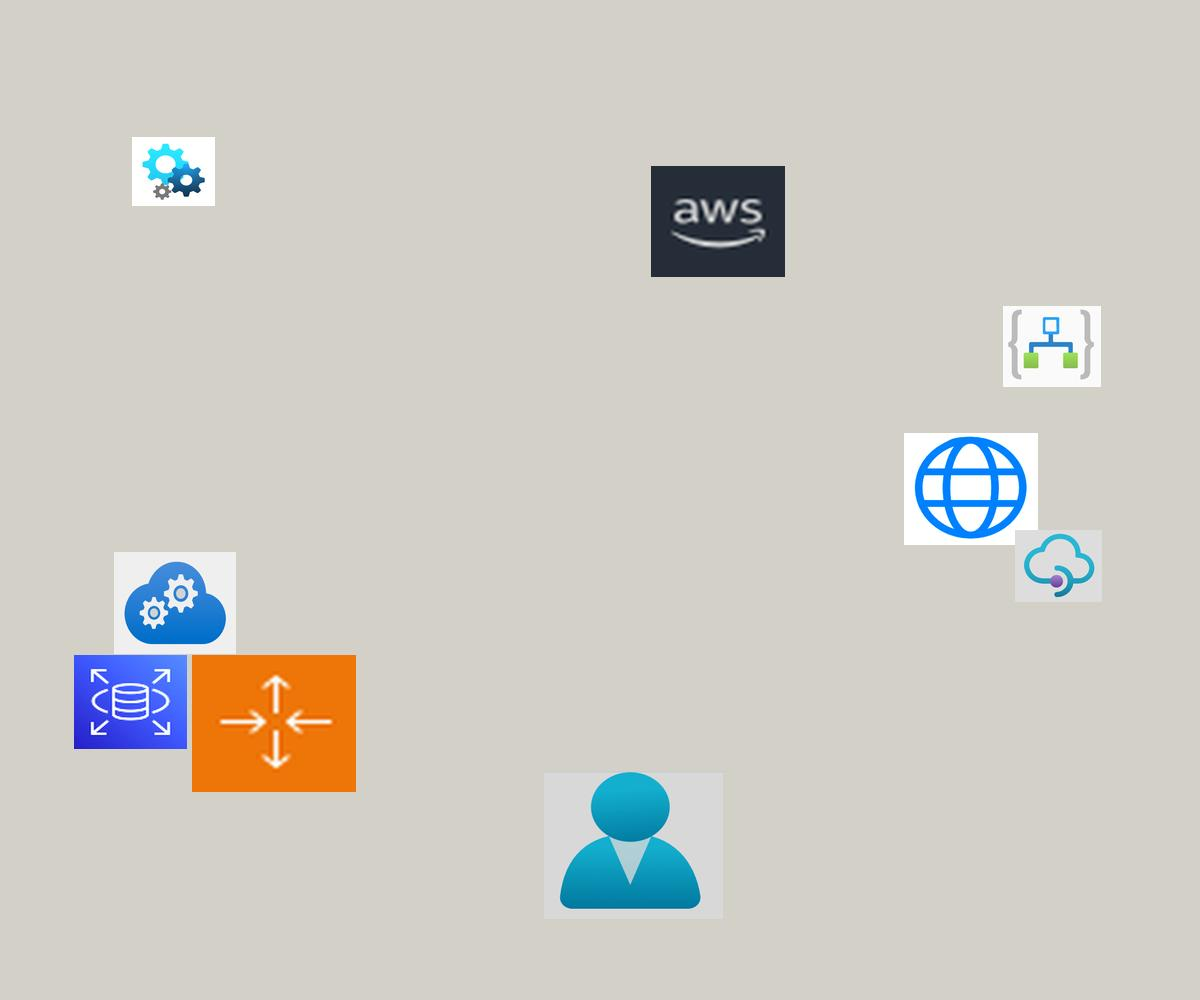AWS-Cloud-logo: (651, 166, 785, 277)
AWS-RDS: (74, 655, 187, 749)
AWS-Scaling-group: (192, 655, 356, 792)
Azure_api: (132, 137, 215, 206)
Azure_api_gateway: (1015, 530, 1102, 602)
Azure_cloud_services: (114, 552, 236, 654)
Azure_http: (904, 433, 1038, 545)
Azure_integration-204-Logic-Apps: (1003, 306, 1101, 387)
Azure_users: (544, 770, 723, 919)
